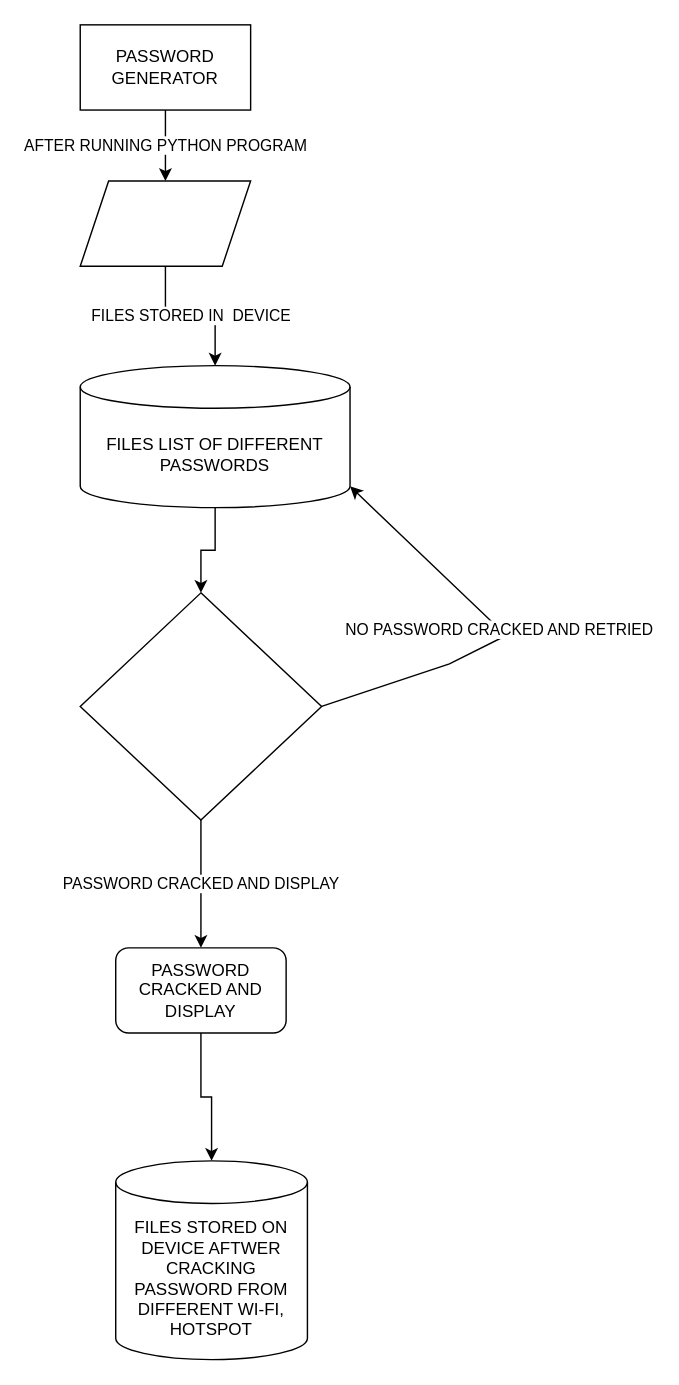
Image size: 679x1385. Some labels were removed from this diagram. The box of each missing label's shape, as (x1, y1, x2, y2) in pixels:
PROCESSING: (79, 180, 251, 266)
SMART BRUTE FORCE ALGORITHM: (79, 591, 322, 820)
